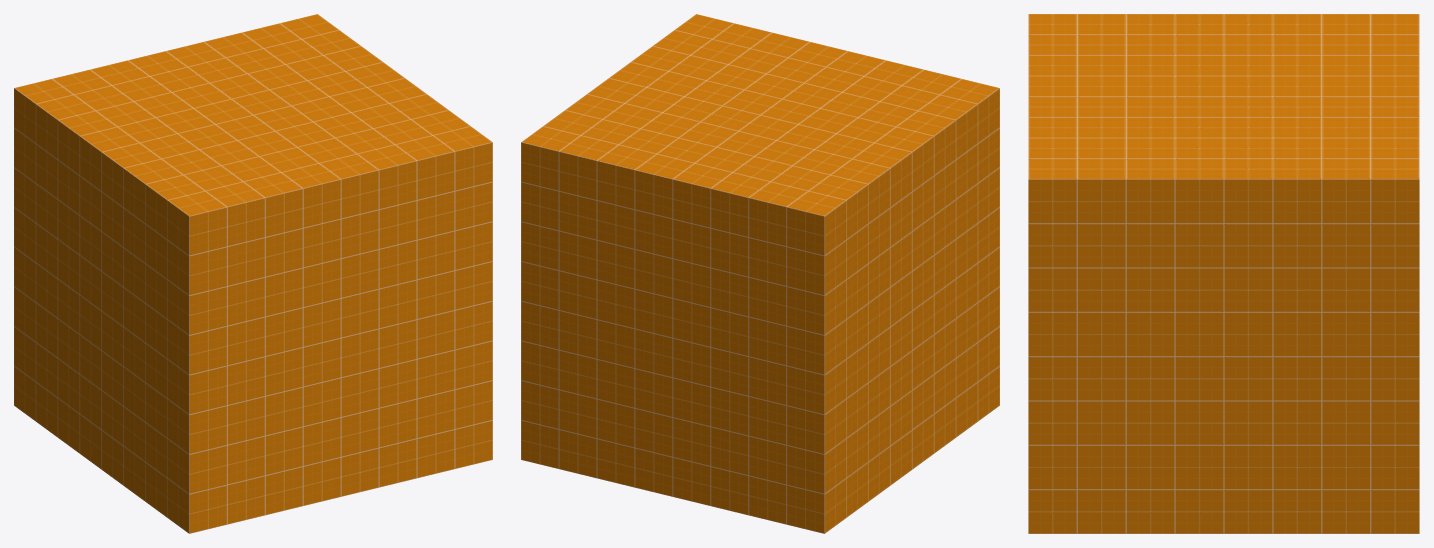
File: Block_8x8x8.obj
3 renders of one model, left to right at view 1: azimuth 30°, elevation 25°; view 2: azimuth 150°, elevation 25°; view 3: azimuth 270°, elevation 25°, orthographic. The views are drawn at different scales.
Parts seen in each view (by area): view 1: Block_8x8x8_Cube.235; view 2: Block_8x8x8_Cube.235; view 3: Block_8x8x8_Cube.235.
Part boxes in pixels (left/top/right/bottom): Block_8x8x8_Cube.235: left=14, top=14, right=492, bottom=533; Block_8x8x8_Cube.235: left=521, top=14, right=999, bottom=533; Block_8x8x8_Cube.235: left=1028, top=14, right=1419, bottom=533.
Size of the model in its own units: 8 by 8 by 8.
1 material, 1 textured.
